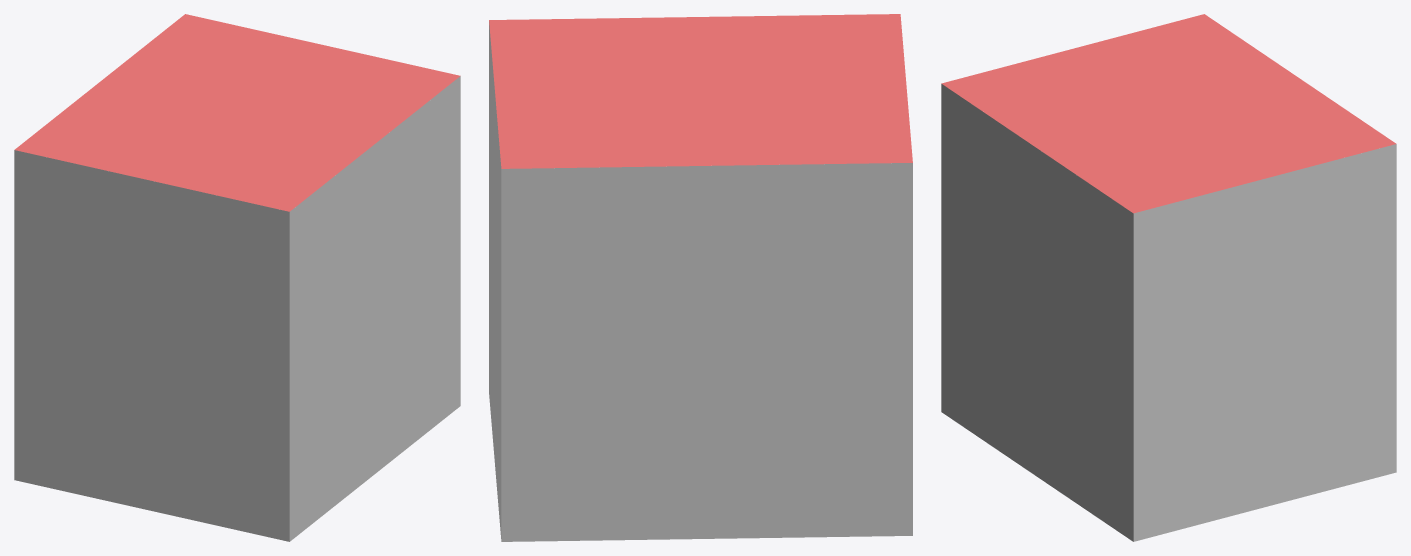
3 renders of one model, left to right at view 1: azimuth 30°, elevation 25°; view 2: azimuth 150°, elevation 25°; view 3: azimuth 270°, elevation 25°, orthographic. The views are drawn at different scales.
Visible parts, largest first — view 1: Z_UP; view 2: Z_UP; view 3: Z_UP.
Boxes of the visible parts, left/top/right/bottom form: Z_UP: left=14, top=14, right=460, bottom=541; Z_UP: left=489, top=14, right=912, bottom=541; Z_UP: left=941, top=14, right=1396, bottom=541.
Bounding box in the file's own units: 16.92 × 13 × 16.33.
